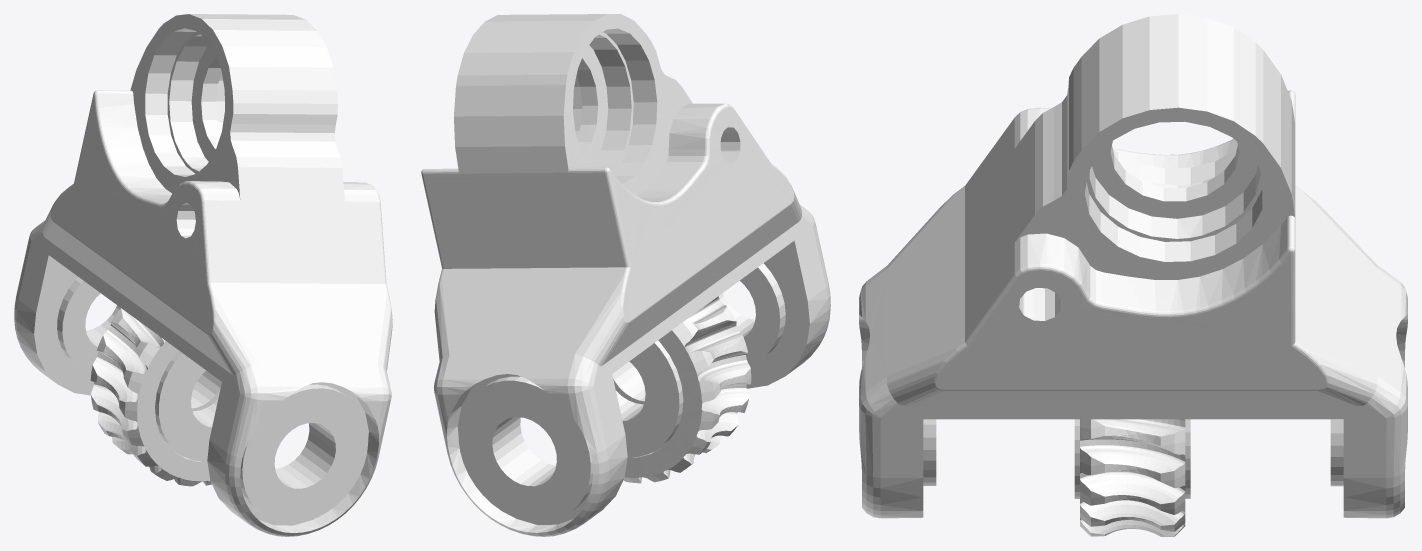
The model's file is rh_thumb_metacarpals_base2_vis.obj.
3 renders of one model, left to right at view 1: azimuth 30°, elevation 25°; view 2: azimuth 150°, elevation 25°; view 3: azimuth 270°, elevation 25°, orthographic. The views are drawn at different scales.
Visible parts, largest first — view 1: rh_thumb_metacarpals_base2; view 2: rh_thumb_metacarpals_base2; view 3: rh_thumb_metacarpals_base2.
Boxes of the visible parts, x1,y1,x2,y2 form: rh_thumb_metacarpals_base2: (14,14,392,536); rh_thumb_metacarpals_base2: (421,14,830,536); rh_thumb_metacarpals_base2: (859,14,1407,536).
Size of the model in its own units: 0.015 by 0.027 by 0.0256.
Materials: 1 (1 with a texture image).
